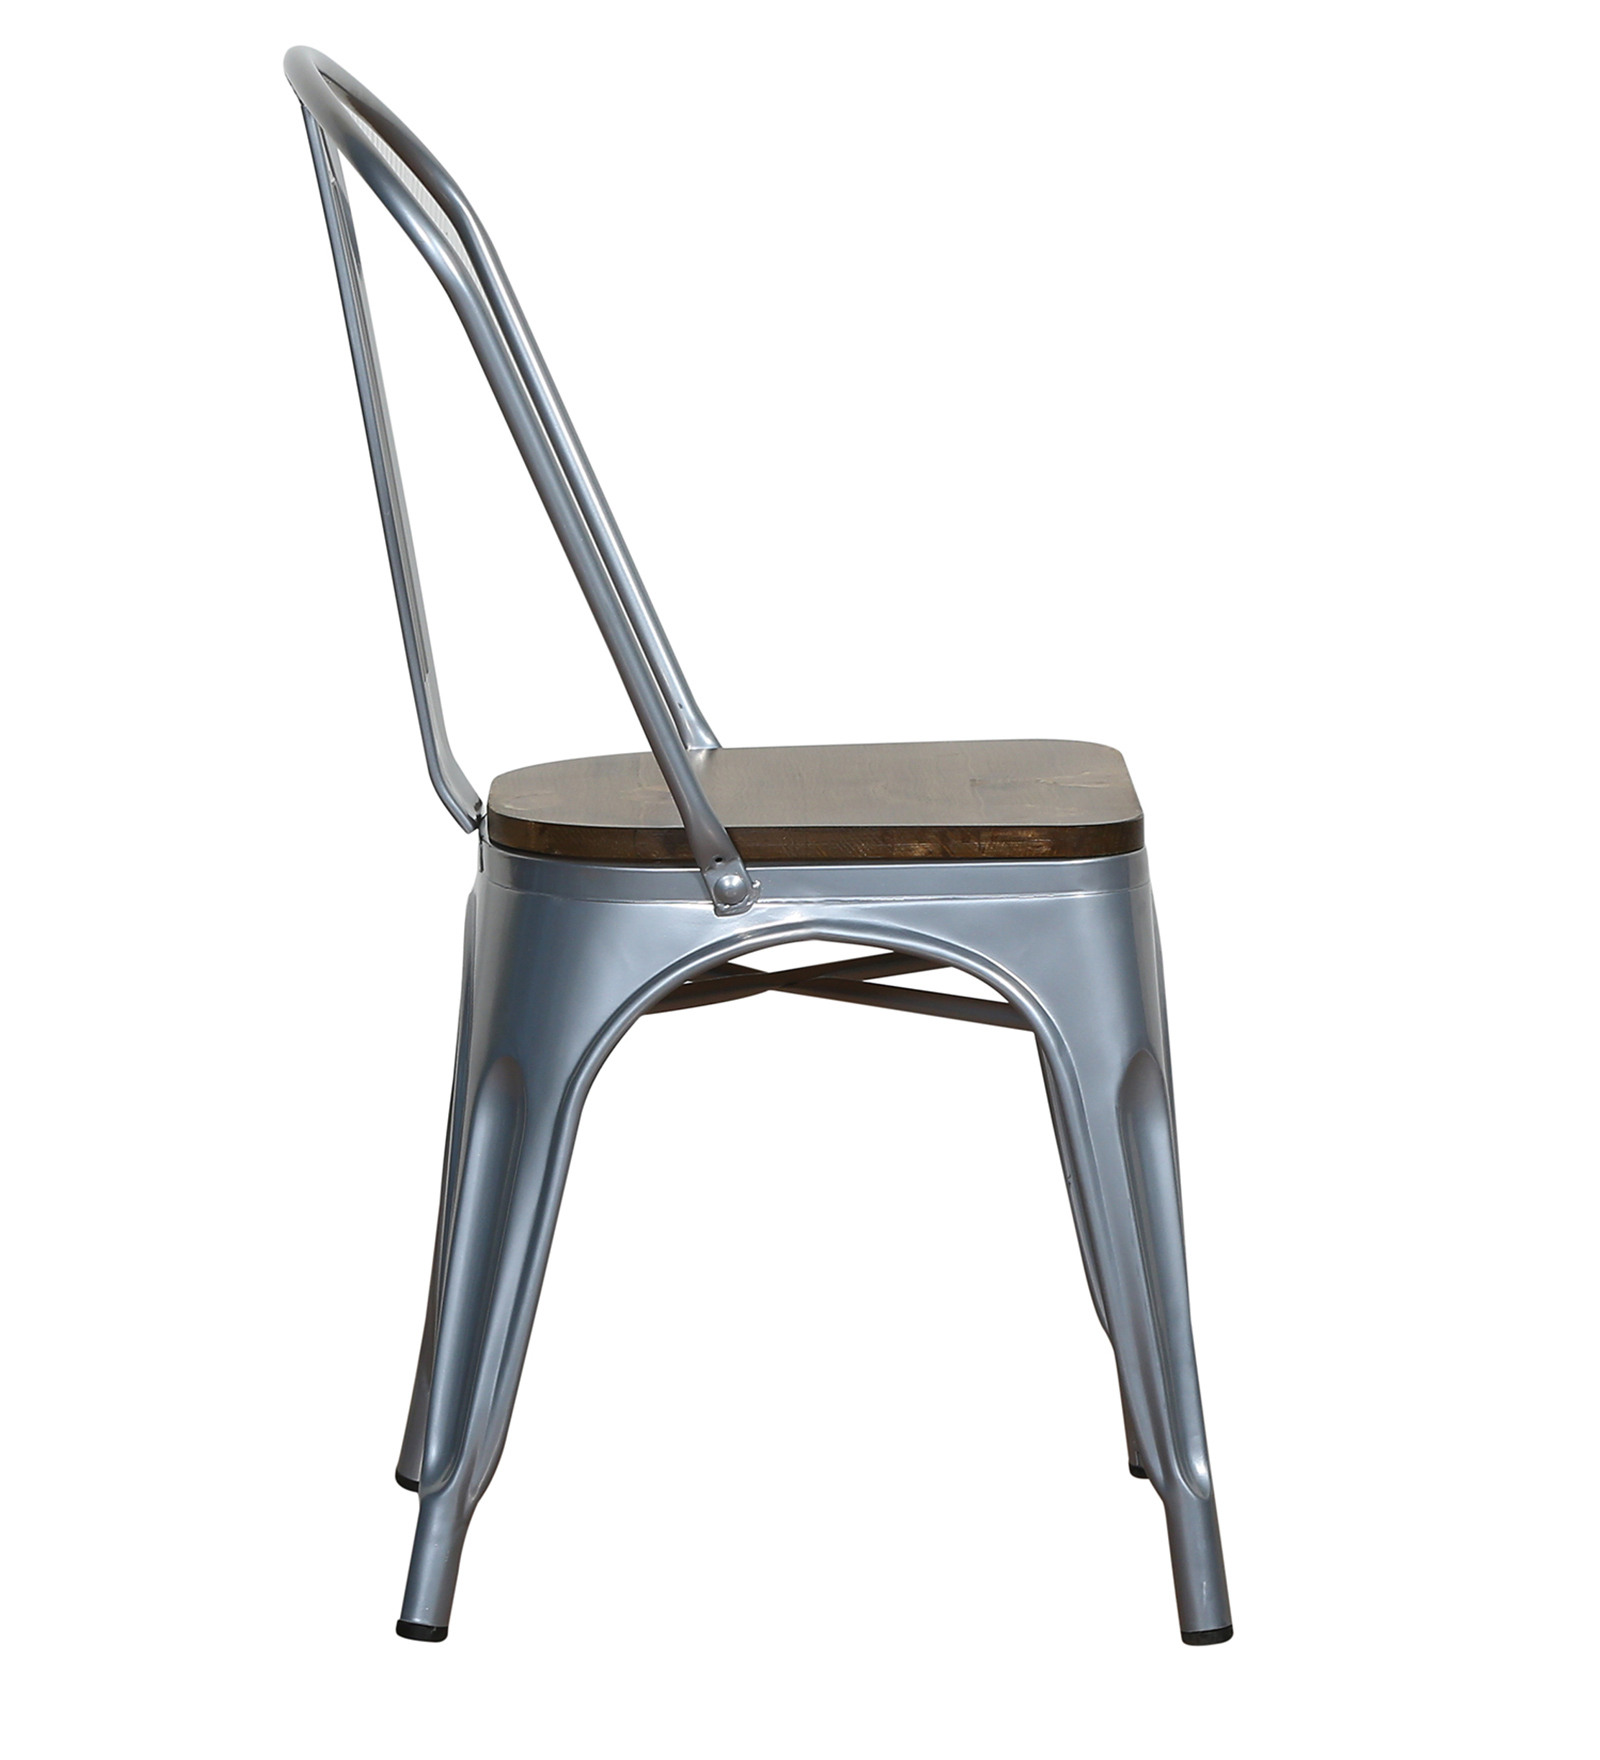Loy Metal Chair (Set of 2) in Silver Colour with Wooden Seat by Bohemiana: (265, 28, 1252, 1653)
